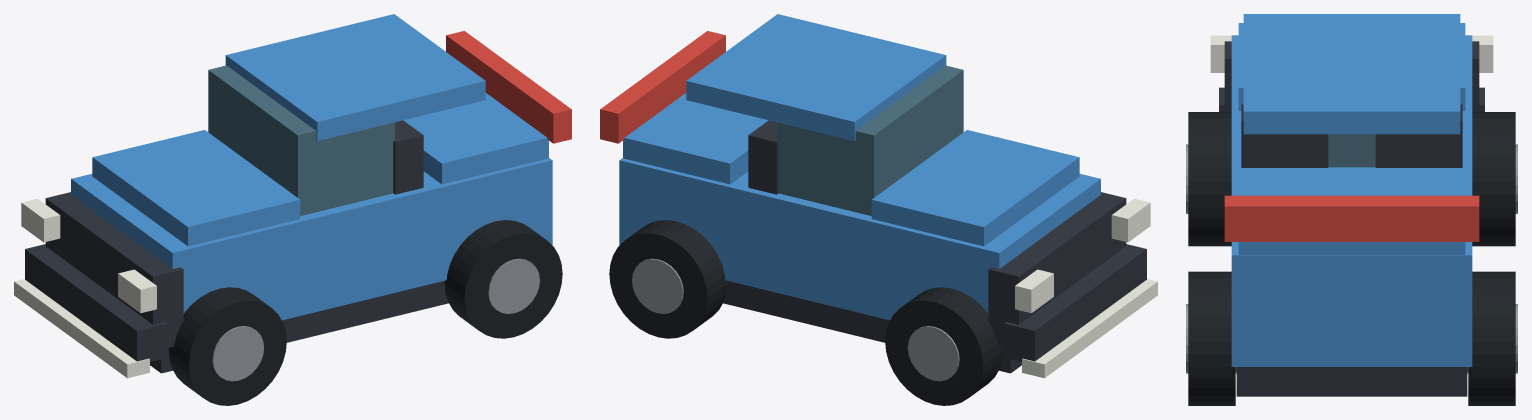
File: ESF_V2_Rally_Electric_Hatch_ThreeJS_YUp.glb
3 views of the same model, side by side, from view 1: azimuth 30°, elevation 25°; view 2: azimuth 150°, elevation 25°; view 3: azimuth 270°, elevation 25° (orthographic). The views are drawn at different scales.
Visible parts, largest first — view 1: Body_Shell, Roof, Front_Hood, Windshield_Glass, Wheel_Rear_Left, Wheel_Front_Left, Rear_Deck_Cover, Front_Fascia, Front_Bumper, Rear_Spoiler_Blade, Chassis_Frame, Front_Splitter (+5 smaller); view 2: Body_Shell, Roof, Front_Hood, Windshield_Glass, Wheel_Rear_Right, Wheel_Front_Right, Rear_Deck_Cover, Front_Fascia, Front_Bumper, Rear_Spoiler_Blade, Chassis_Frame, Front_Splitter (+5 smaller); view 3: Body_Shell, Roof, Rear_Spoiler_Blade, Rear_Deck_Cover, Chassis_Frame, Wheel_Rear_Left, Wheel_Rear_Right, Wheel_Front_Left, Wheel_Front_Right, Driver_Seat_Backrest, Passenger_Seat_Backrest, Windshield_Glass (+4 smaller).
Part boxes in pixels (box(x1,y1,x2,y2)): Body_Shell: box(71, 158, 552, 320); Roof: box(225, 14, 485, 141); Front_Hood: box(92, 130, 300, 246); Windshield_Glass: box(208, 65, 394, 215); Wheel_Rear_Left: box(444, 220, 562, 338); Wheel_Front_Left: box(168, 287, 286, 405); Rear_Deck_Cover: box(403, 93, 548, 184); Front_Fascia: box(45, 192, 183, 347); Front_Bumper: box(25, 244, 167, 361); Rear_Spoiler_Blade: box(446, 31, 571, 143); Chassis_Frame: box(150, 281, 448, 373); Front_Splitter: box(14, 279, 149, 378); Body_Shell: box(619, 158, 1100, 320); Roof: box(686, 14, 946, 141); Front_Hood: box(871, 130, 1079, 246); Windshield_Glass: box(777, 65, 963, 215); Wheel_Rear_Right: box(609, 220, 727, 338); Wheel_Front_Right: box(885, 287, 1003, 405); Rear_Deck_Cover: box(623, 93, 768, 184); Front_Fascia: box(988, 192, 1126, 347); Front_Bumper: box(1004, 244, 1146, 361); Rear_Spoiler_Blade: box(600, 31, 725, 143); Chassis_Frame: box(723, 281, 1021, 373); Front_Splitter: box(1022, 279, 1157, 378); Body_Shell: box(1231, 35, 1472, 366); Roof: box(1243, 14, 1460, 134); Rear_Spoiler_Blade: box(1224, 195, 1479, 241); Rear_Deck_Cover: box(1238, 168, 1465, 254); Chassis_Frame: box(1236, 367, 1467, 396); Wheel_Rear_Left: box(1188, 271, 1235, 405); Wheel_Rear_Right: box(1468, 271, 1515, 405); Wheel_Front_Left: box(1188, 112, 1231, 246); Wheel_Front_Right: box(1472, 112, 1515, 246); Driver_Seat_Backrest: box(1241, 104, 1328, 167); Passenger_Seat_Backrest: box(1375, 104, 1462, 167); Windshield_Glass: box(1328, 134, 1375, 167).
Size of the model in its own units: 4.38 by 2.25 by 2.37.
